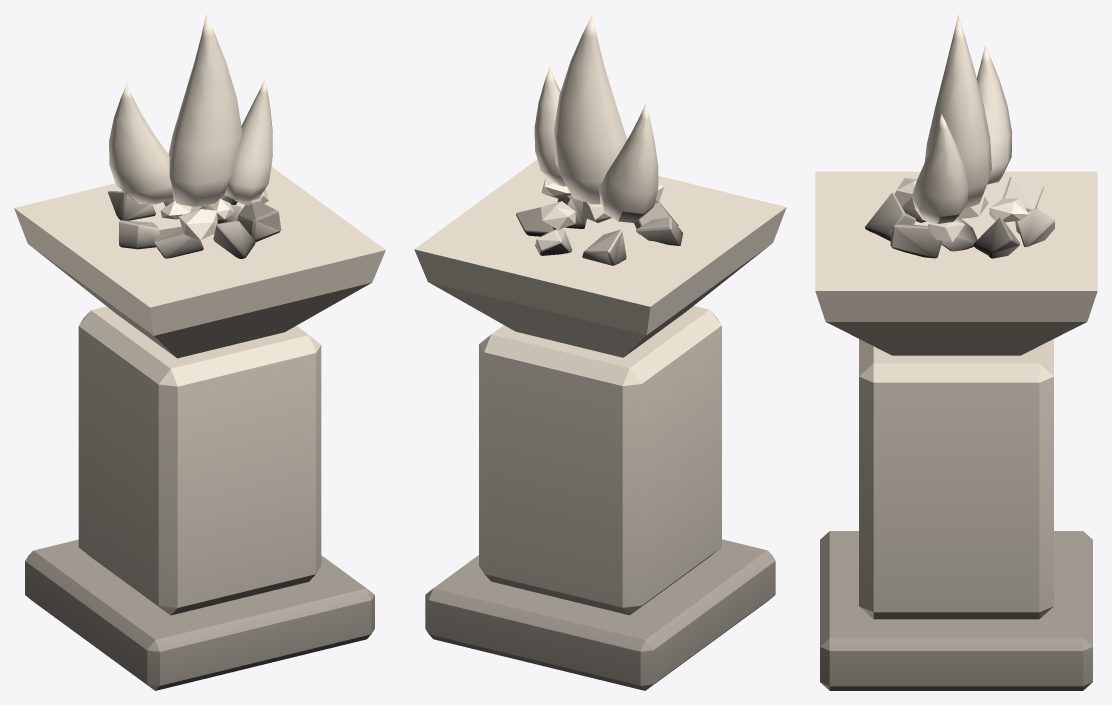
Rendered from SM_VKI_Prop_Brazier_Dwarf.fbx.
The picture shows the model from 3 angles, left to right: view 1: azimuth 30°, elevation 25°; view 2: azimuth 150°, elevation 25°; view 3: azimuth 270°, elevation 25°; orthographic projection. The views are drawn at different scales.
Parts seen in each view (by area): view 1: SM_VKI_Prop_Brazier_Dwarf.001; view 2: SM_VKI_Prop_Brazier_Dwarf.001; view 3: SM_VKI_Prop_Brazier_Dwarf.001.
Part boxes in pixels (x1,y1,x2,y2): SM_VKI_Prop_Brazier_Dwarf.001: (14, 14, 385, 690); SM_VKI_Prop_Brazier_Dwarf.001: (414, 14, 786, 690); SM_VKI_Prop_Brazier_Dwarf.001: (815, 14, 1097, 690).
Bounding box in the file's own units: 0.5798 × 1.42 × 0.5798.
